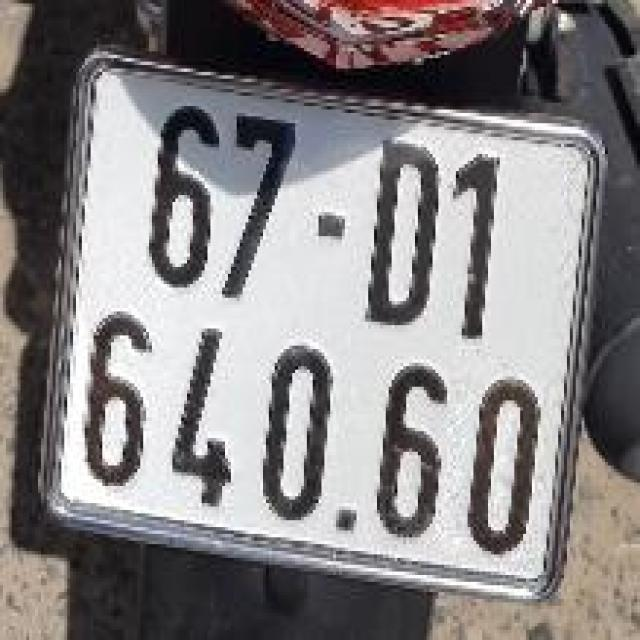0: (465, 370, 549, 558), (258, 340, 334, 522)
1: (450, 140, 511, 346)
4: (168, 313, 238, 512)
6: (371, 360, 450, 538), (82, 308, 155, 496), (150, 100, 220, 288)
7: (218, 103, 302, 304)
D: (367, 132, 442, 337)
